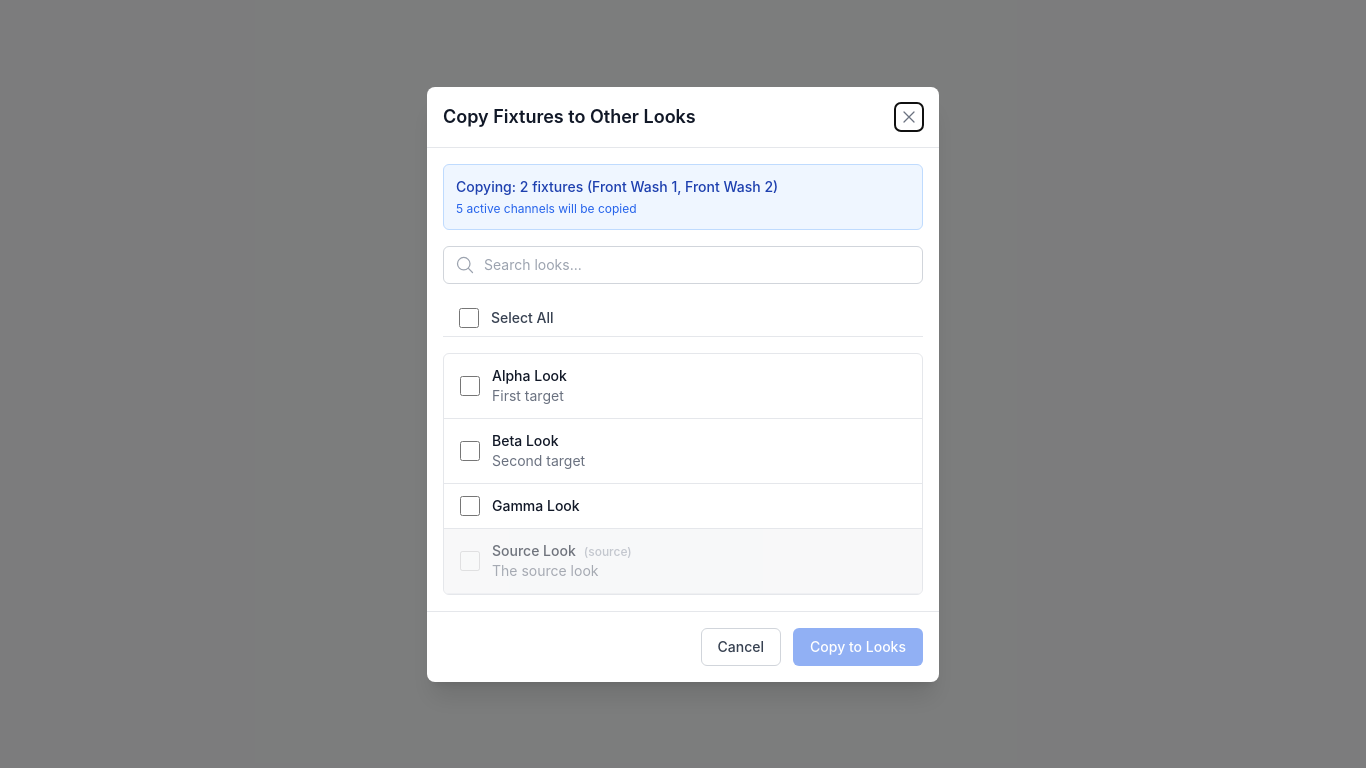
Scenario: CopyFixturesToLooksModal › selection behavior › allows selecting a target look
Click on a look row
Click the text "Alpha Look" at (529, 375), box [492,366,567,384]
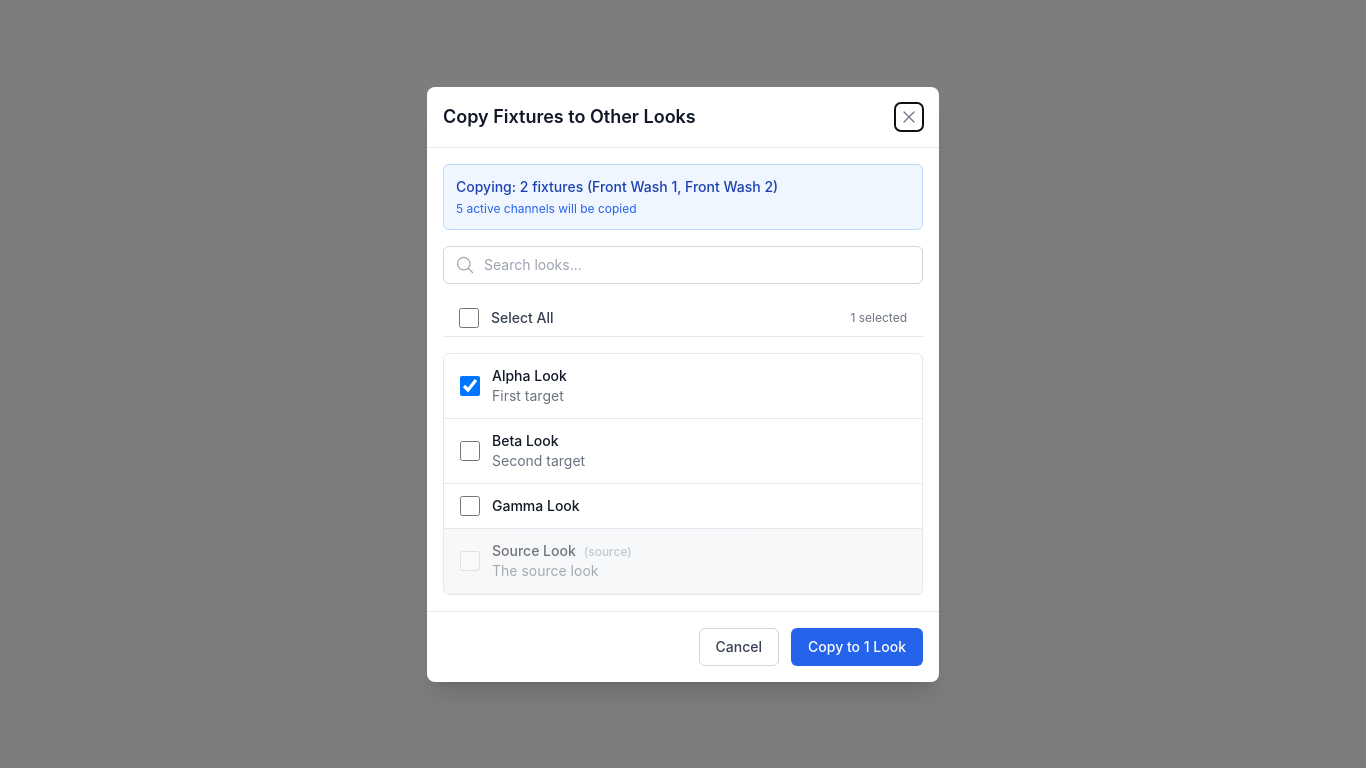
expect the text "1 selected" is shown: met, box [850,310,907,326]
